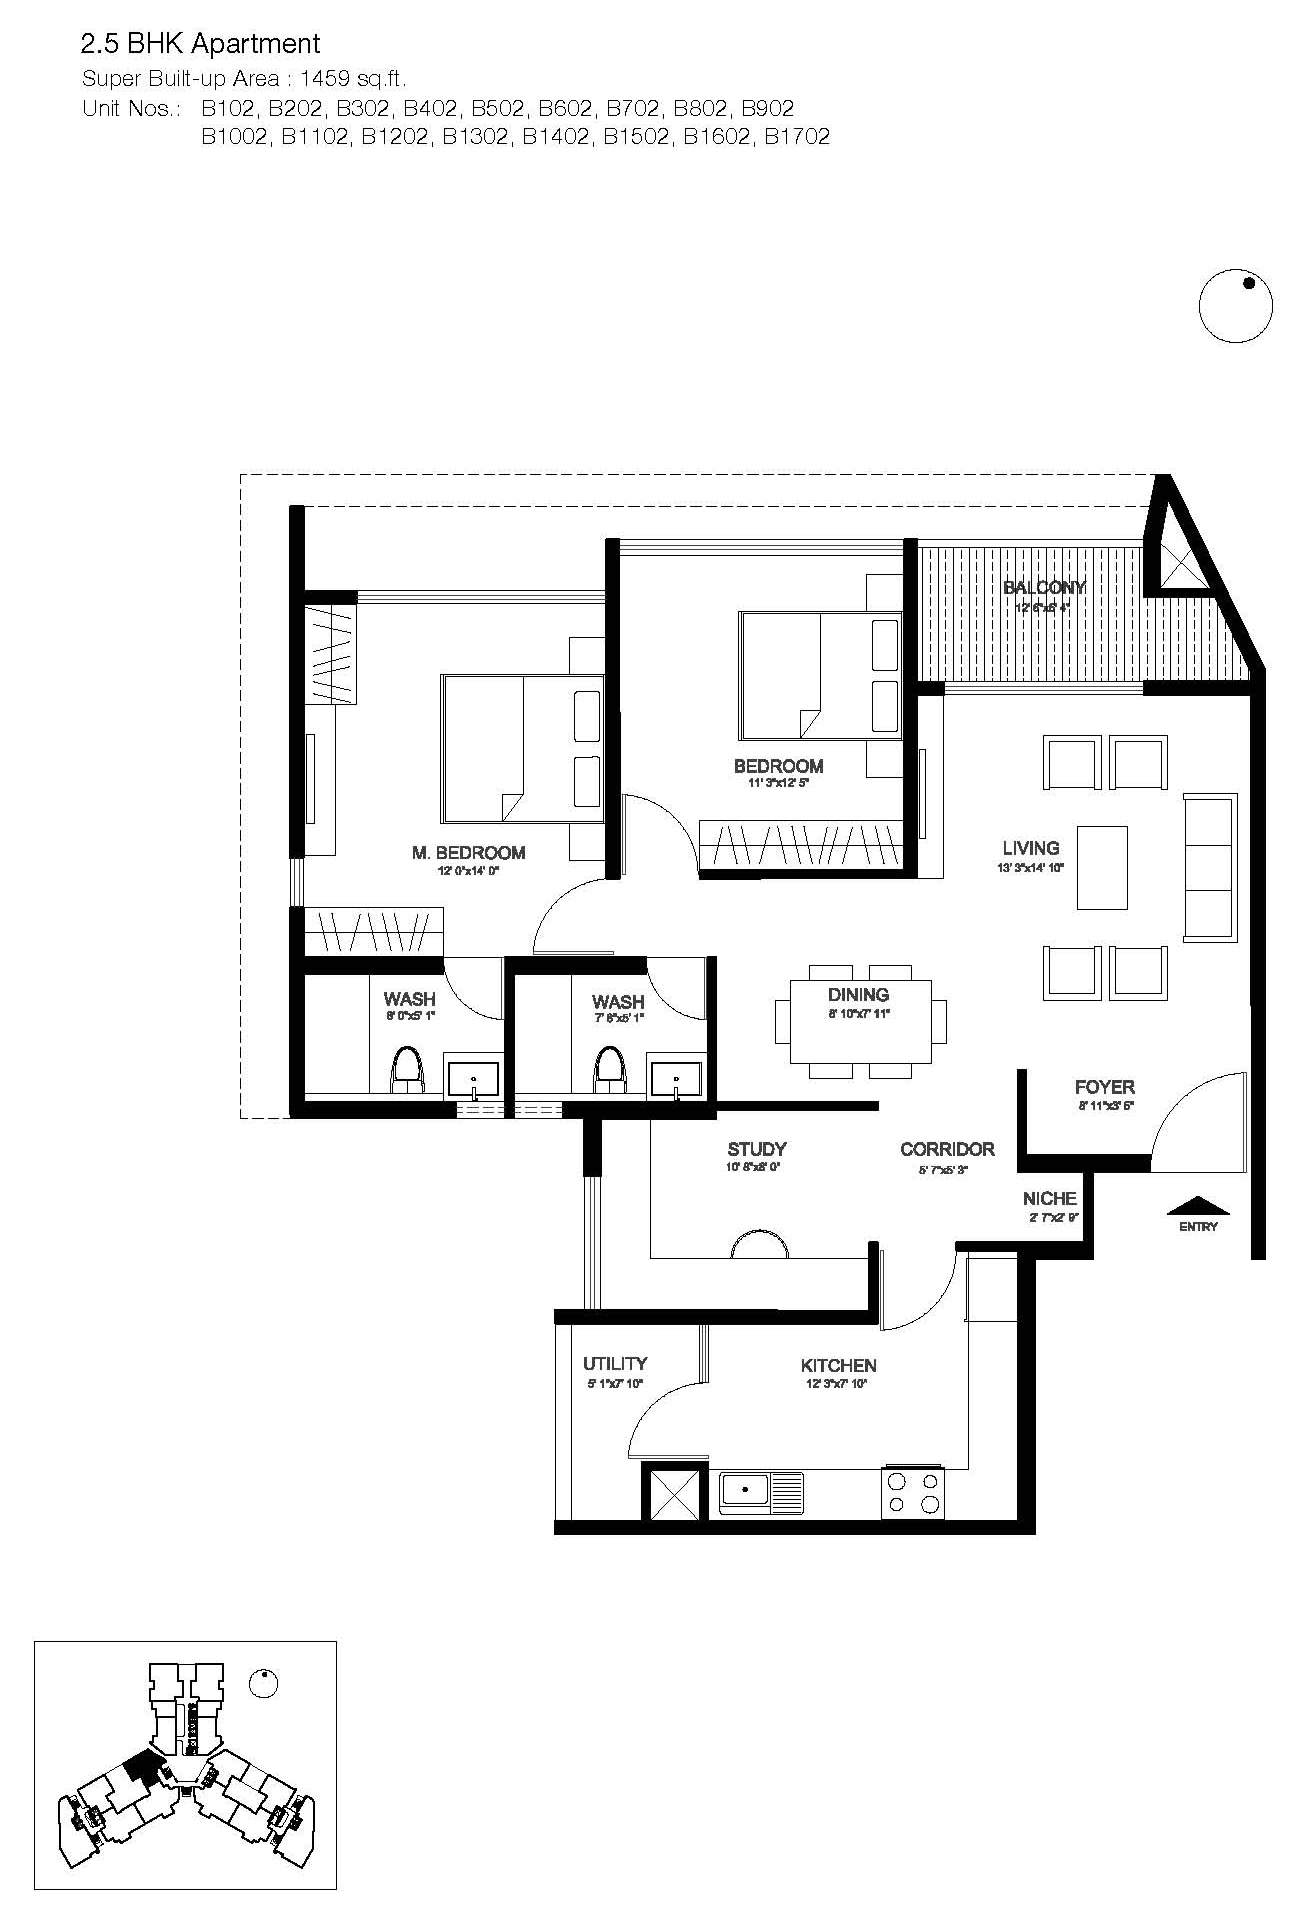door: (1148, 1064, 1248, 1155), (617, 1379, 696, 1457), (880, 1254, 957, 1331), (530, 877, 607, 955), (622, 793, 696, 866), (447, 969, 502, 1026), (652, 966, 708, 1022)
